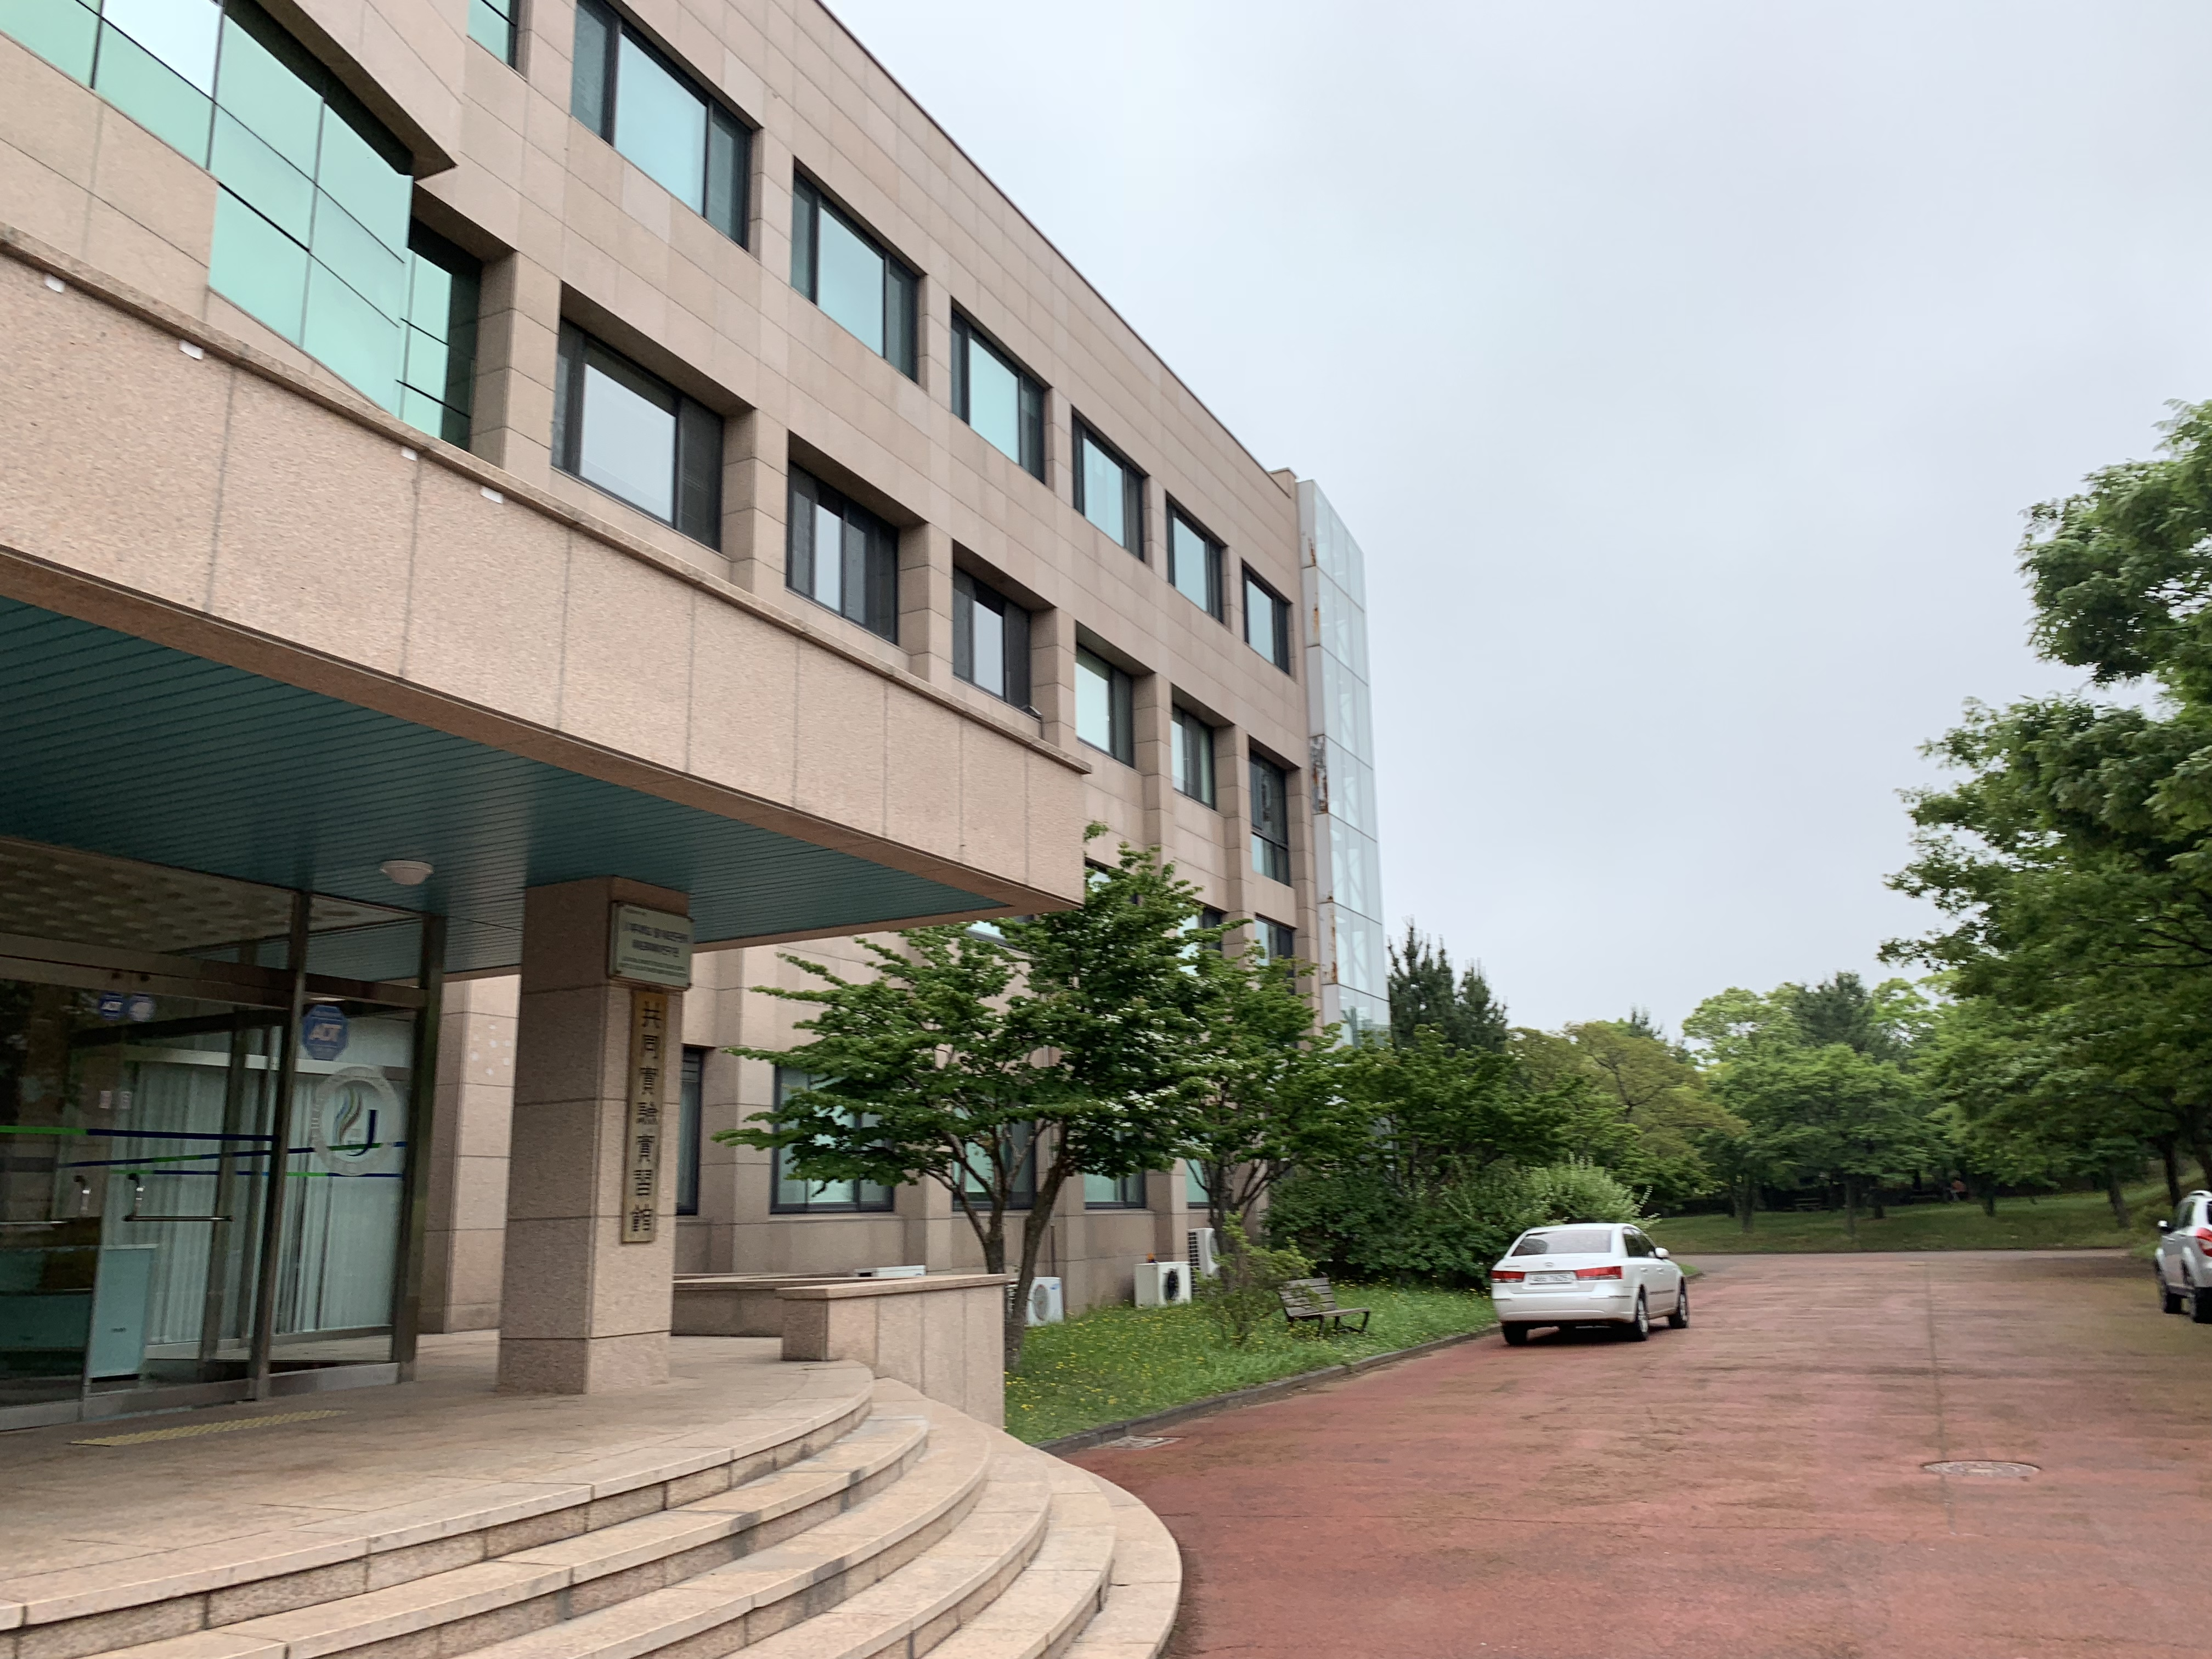Joint Experimental Labs: (33, 40, 1414, 1561)
